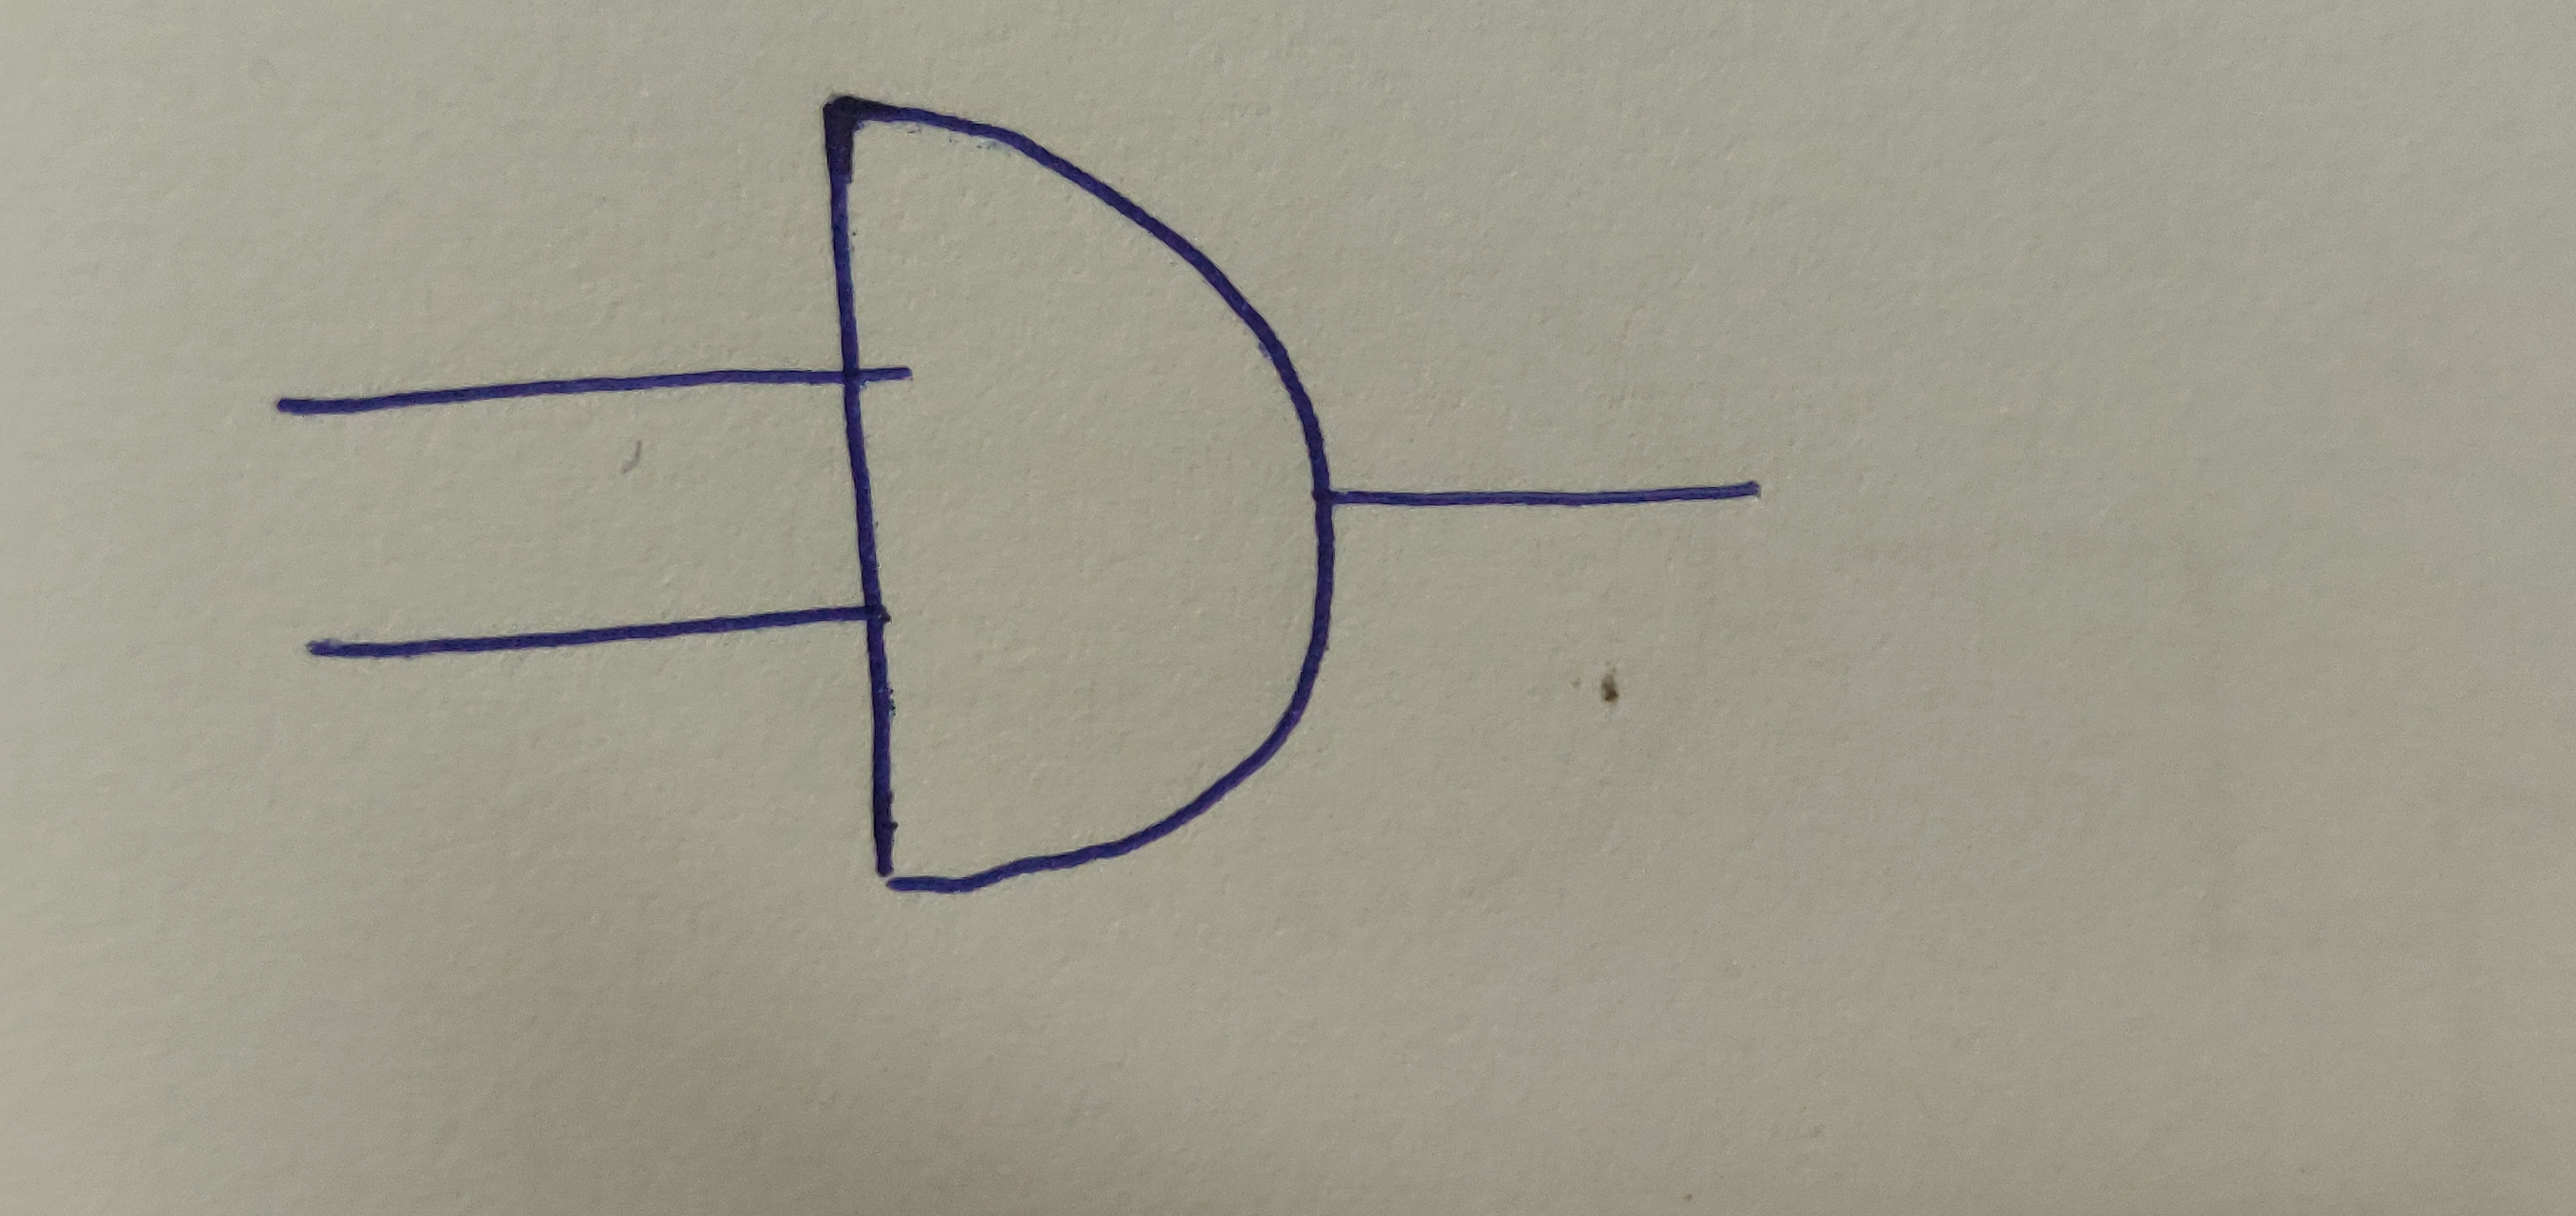and: (810, 90, 1339, 897)
